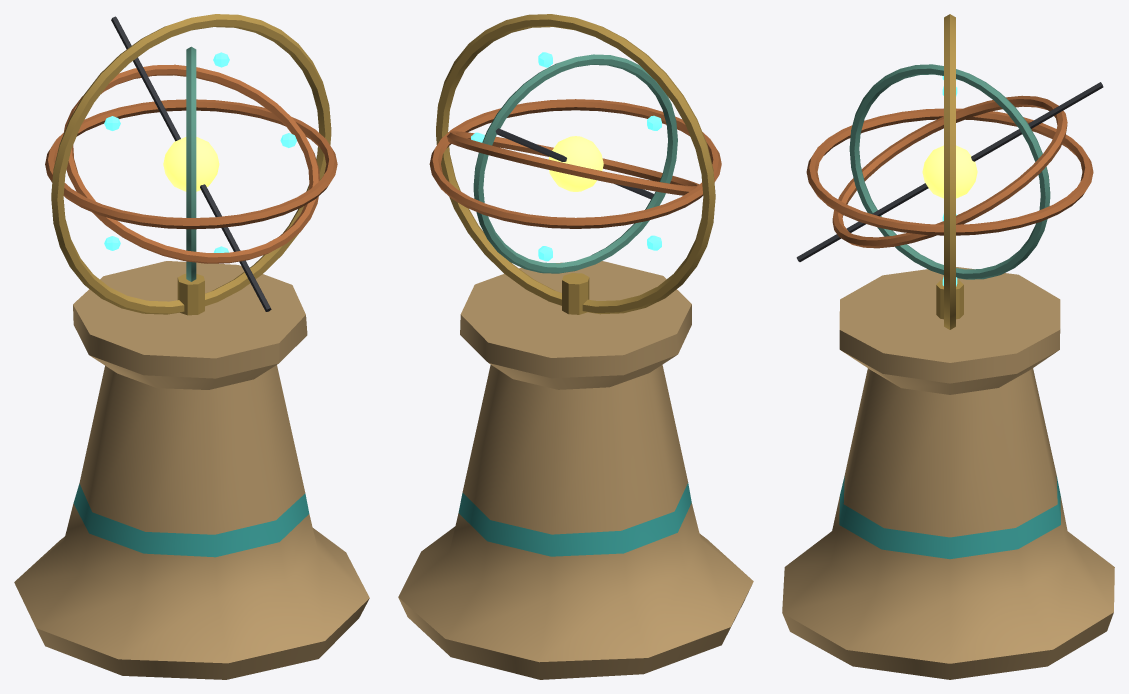
The model's file is deco_star_gazer.fbx.
The picture shows the model from 3 angles, left to right: view 1: azimuth 30°, elevation 25°; view 2: azimuth 150°, elevation 25°; view 3: azimuth 270°, elevation 25°; orthographic projection.
Parts seen in each view (by area): view 1: StarGazer_Plinth, StarGazer_Meridian, StarGazer_Ring1, StarGazer_Ring2, StarGazer_Core, StarGazer_Ring3; view 2: StarGazer_Plinth, StarGazer_Meridian, StarGazer_Ring1, StarGazer_Ring3, StarGazer_Ring2, StarGazer_Core; view 3: StarGazer_Plinth, StarGazer_Ring1, StarGazer_Ring3, StarGazer_Ring2, StarGazer_Meridian, StarGazer_Core.
Part boxes in pixels (x1,y1,x2,y2): StarGazer_Plinth: (14,261,369,679); StarGazer_Meridian: (51,14,331,315); StarGazer_Ring1: (45,99,337,229); StarGazer_Ring2: (63,64,319,263); StarGazer_Core: (104,16,296,311); StarGazer_Ring3: (186,46,196,281); StarGazer_Plinth: (398,261,753,679); StarGazer_Meridian: (436,14,715,314); StarGazer_Ring1: (429,99,721,228); StarGazer_Ring3: (473,54,677,273); StarGazer_Ring2: (447,131,699,195); StarGazer_Core: (471,52,661,261); StarGazer_Plinth: (782,267,1114,679); StarGazer_Ring1: (806,108,1093,235); StarGazer_Ring3: (849,64,1050,279); StarGazer_Ring2: (832,95,1067,248); StarGazer_Meridian: (936,14,963,329); StarGazer_Core: (796,76,1103,286).
Size of the model in its own units: 127 by 233 by 121.
